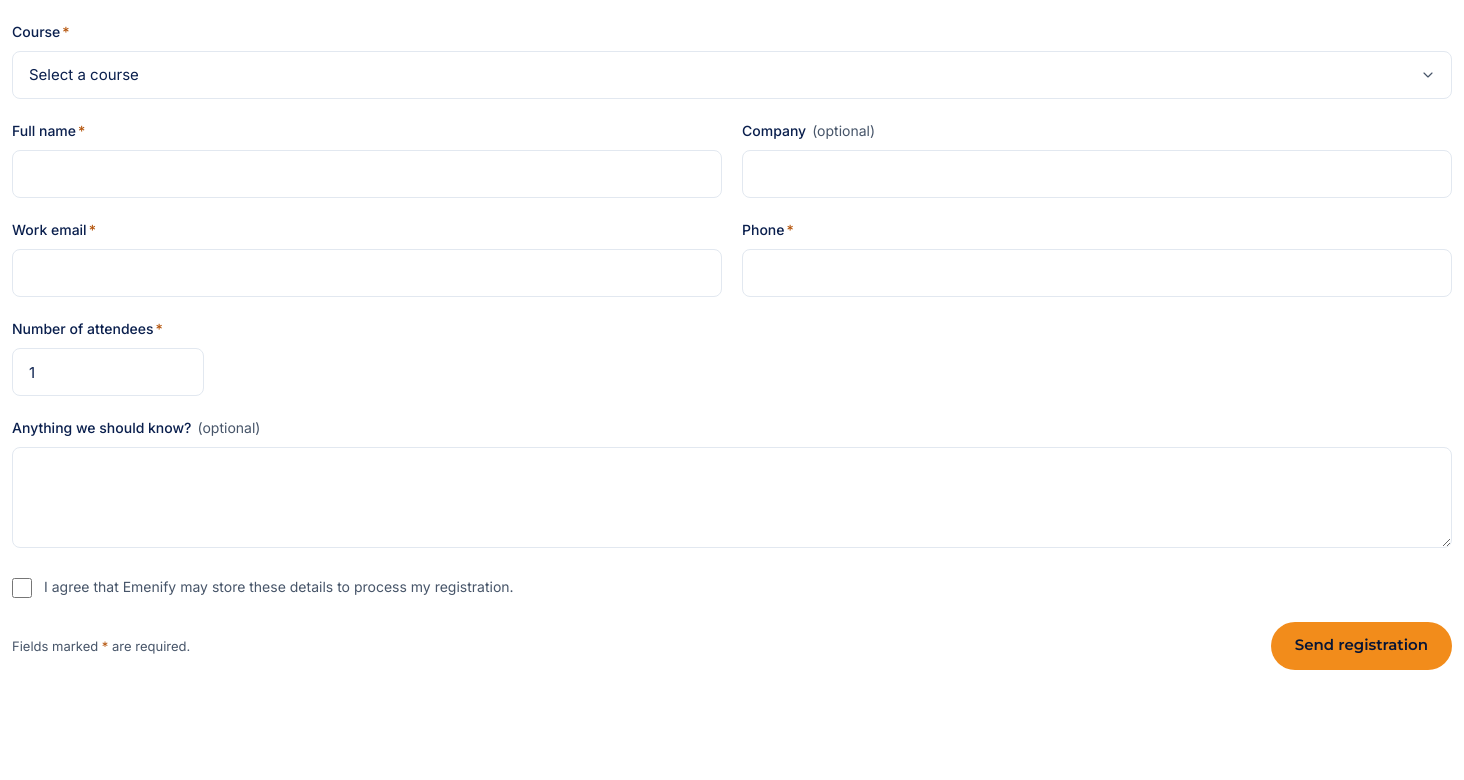
Test: TrainingEnquiryForm › shows inline errors for missing fields and an invalid attendee count
Step 1. Replace the text in the number field labelled "Number of attendees*" with "80" → [108, 372], box x1=12 y1=348 x2=204 y2=396
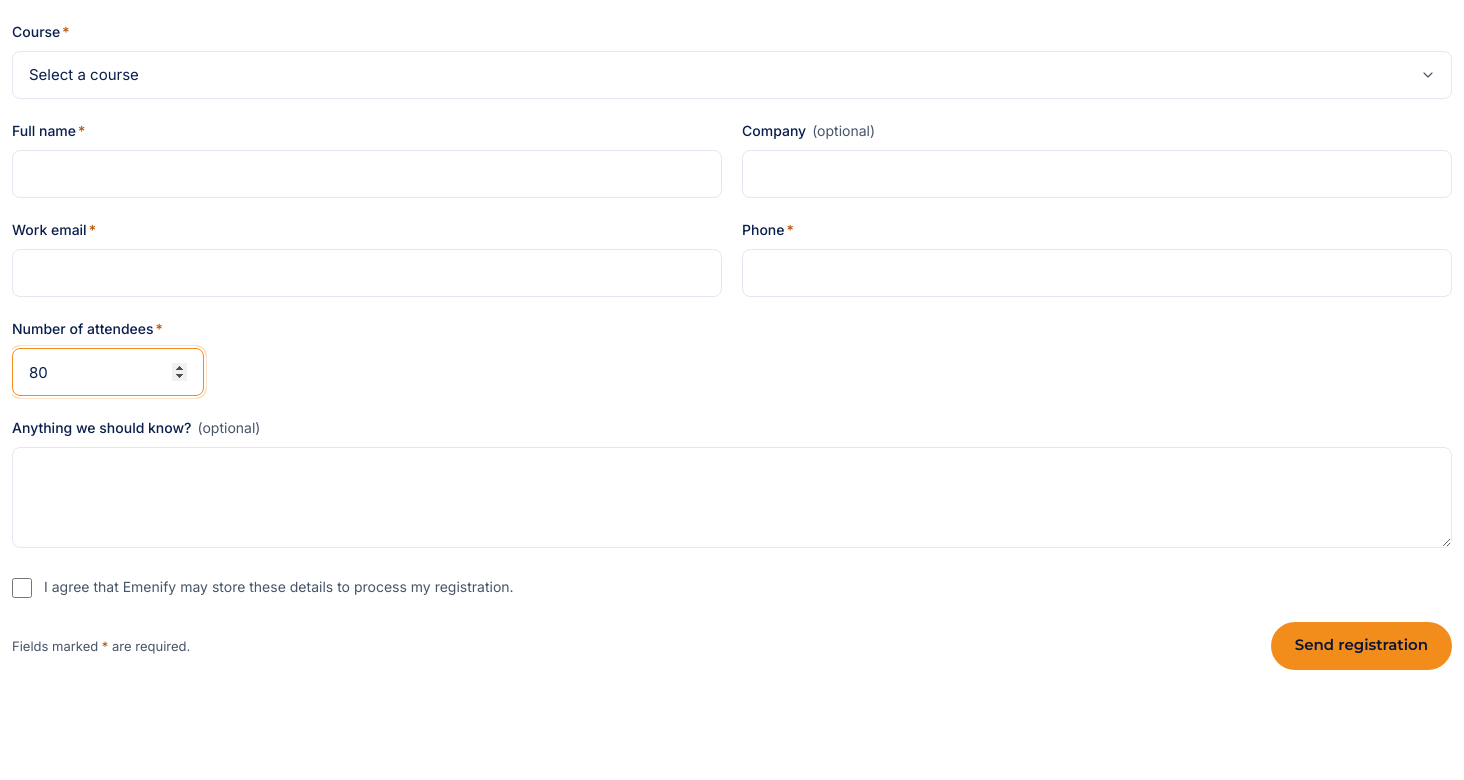
Step 2. Click the button "Send registration" → [1361, 646], box x1=1271 y1=622 x2=1452 y2=670
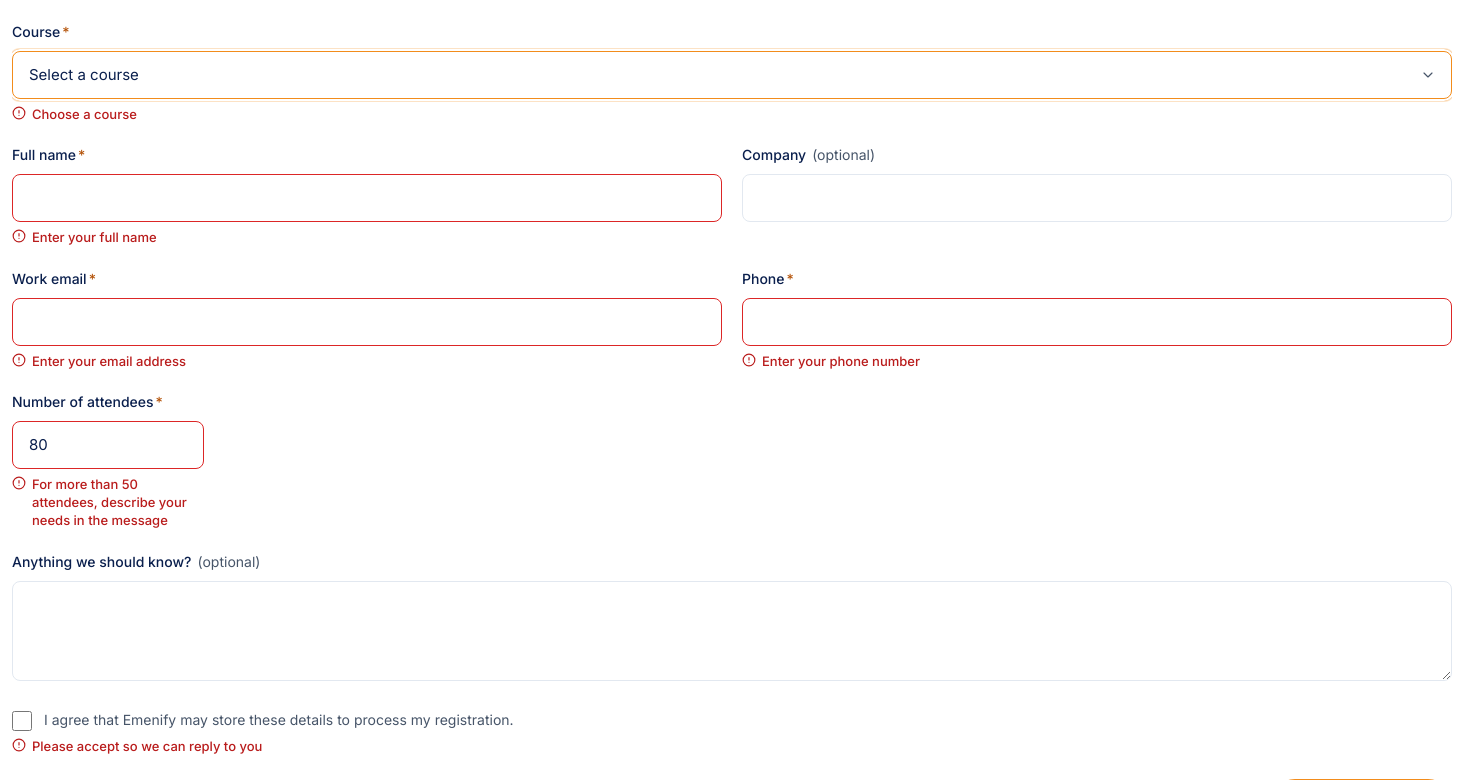
Now the text "Choose a course" is shown, box x1=12 y1=106 x2=137 y2=122
Now the text "Enter your phone number" is shown, box x1=742 y1=353 x2=920 y2=369
Now the text "For more than 50 attendees, describe your needs in the message" is shown, box x1=12 y1=475 x2=204 y2=530
